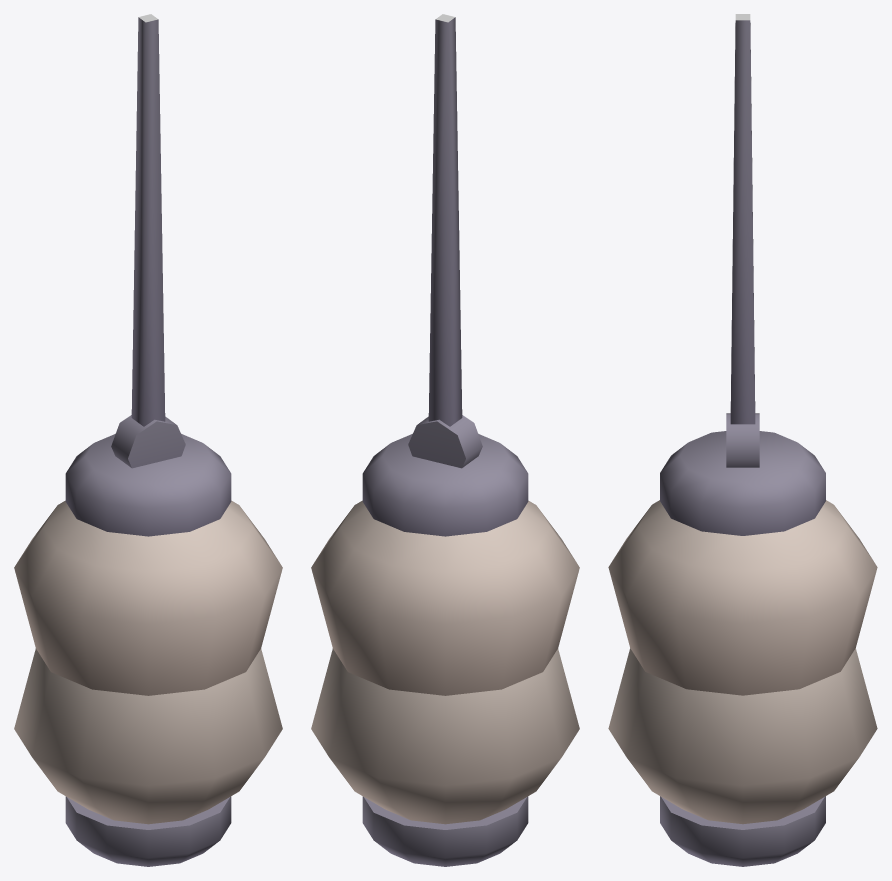
Rendered from lamp-lantern-hanging-paper-alternative (%ceiling).glb.
The picture shows the model from 3 angles, left to right: view 1: azimuth 30°, elevation 25°; view 2: azimuth 150°, elevation 25°; view 3: azimuth 270°, elevation 25°; orthographic projection.
Visible parts, largest first — view 1: lamp-lantern-hanging-paper-alternative (%ceiling); view 2: lamp-lantern-hanging-paper-alternative (%ceiling); view 3: lamp-lantern-hanging-paper-alternative (%ceiling).
Boxes of the visible parts, left/top/right/bottom form: lamp-lantern-hanging-paper-alternative (%ceiling): left=14, top=14, right=282, bottom=866; lamp-lantern-hanging-paper-alternative (%ceiling): left=311, top=14, right=579, bottom=866; lamp-lantern-hanging-paper-alternative (%ceiling): left=608, top=14, right=877, bottom=866.
Bounding box in the file's own units: 0.273 × 0.9212 × 0.273.
